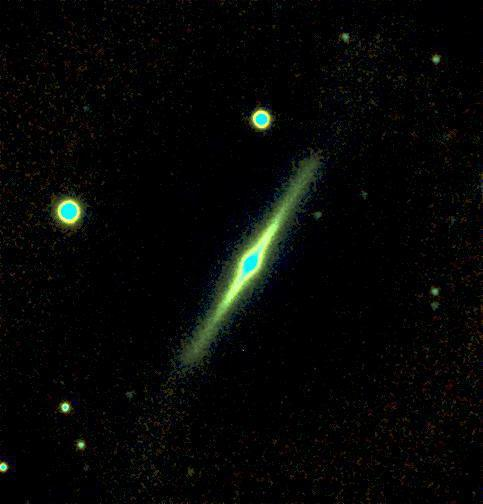star: (175, 456, 205, 486)
